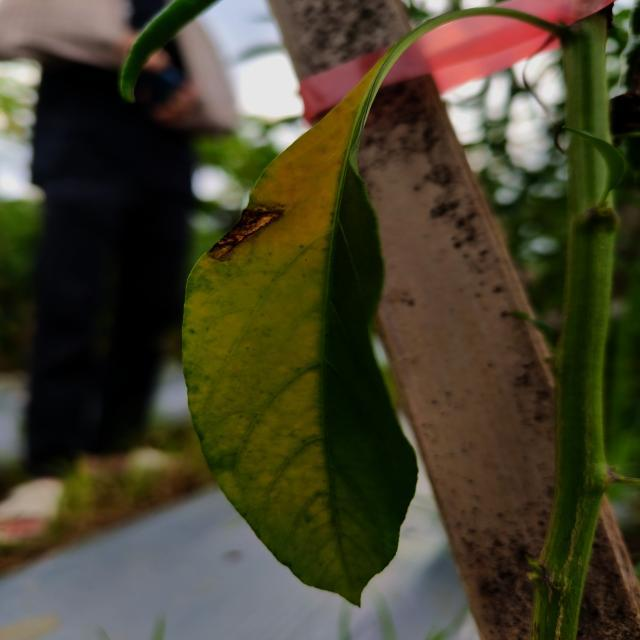Virus Kuning: (181, 87, 425, 608)
